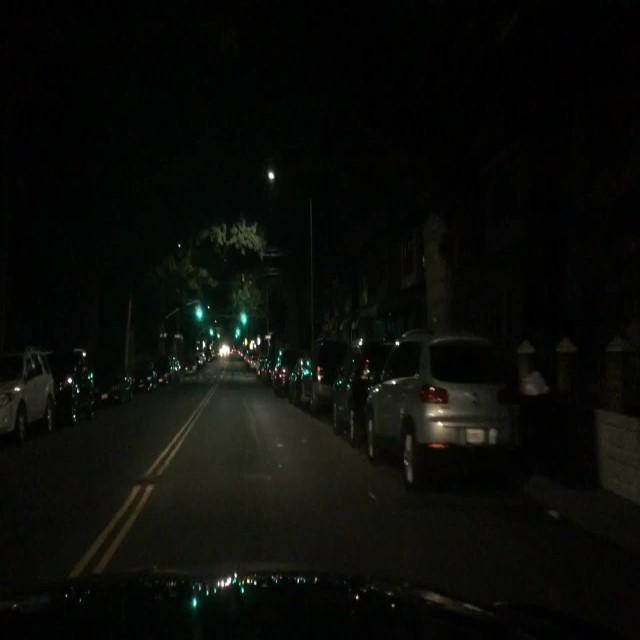normal: (359, 326, 542, 501)
